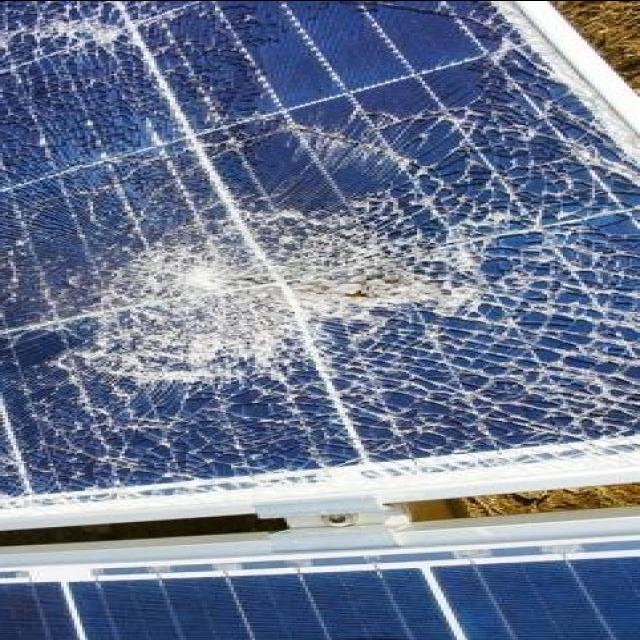cracked: (2, 4, 632, 521)
